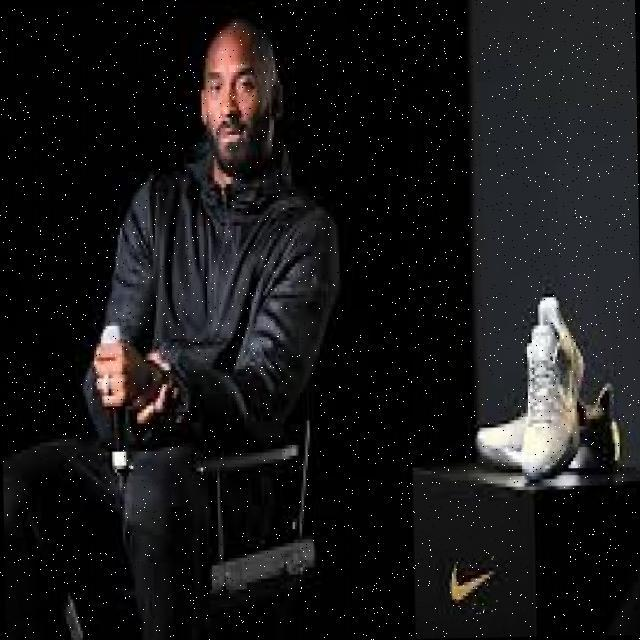Nike: (445, 555, 498, 614)
